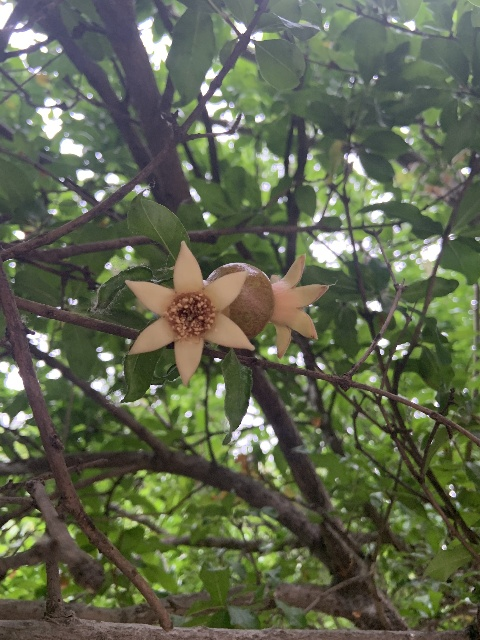early-fruit: (125, 241, 254, 387), (210, 253, 329, 359)
